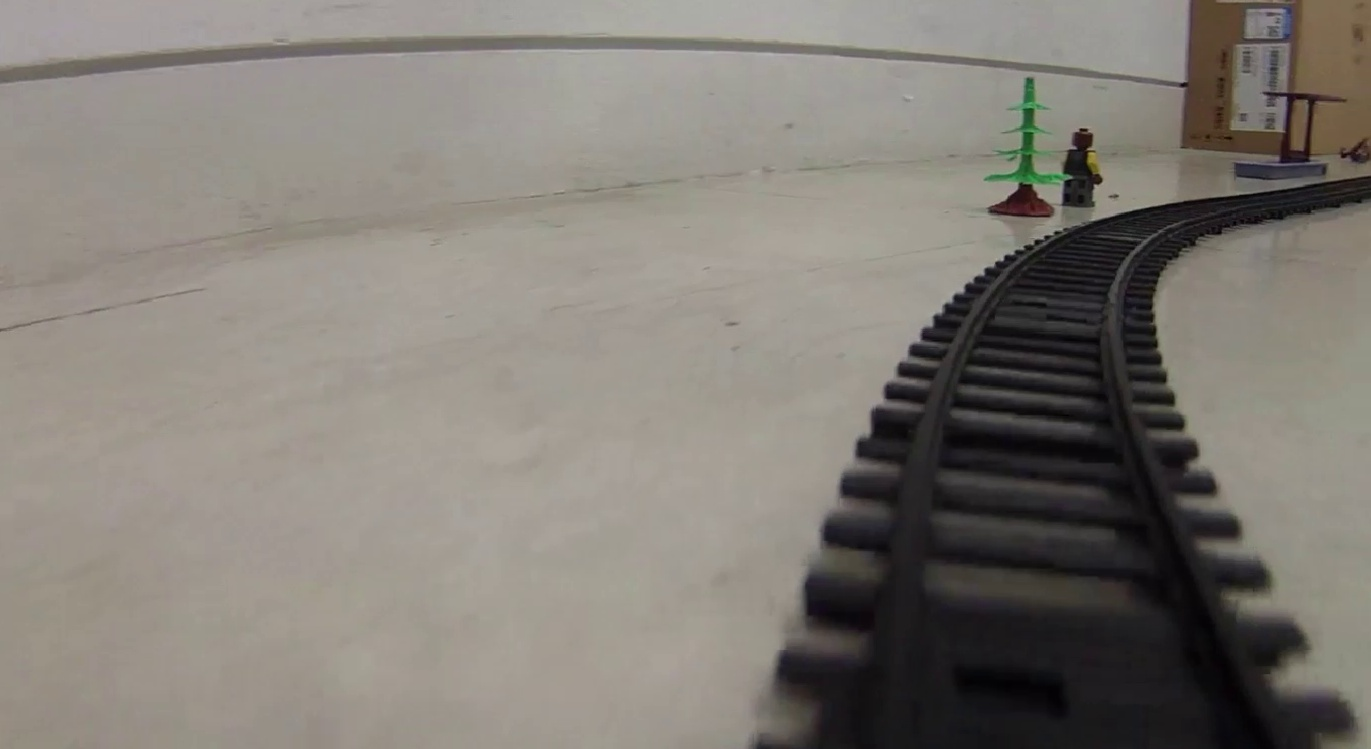people: (1060, 127, 1102, 210)
tree: (986, 76, 1064, 217)
